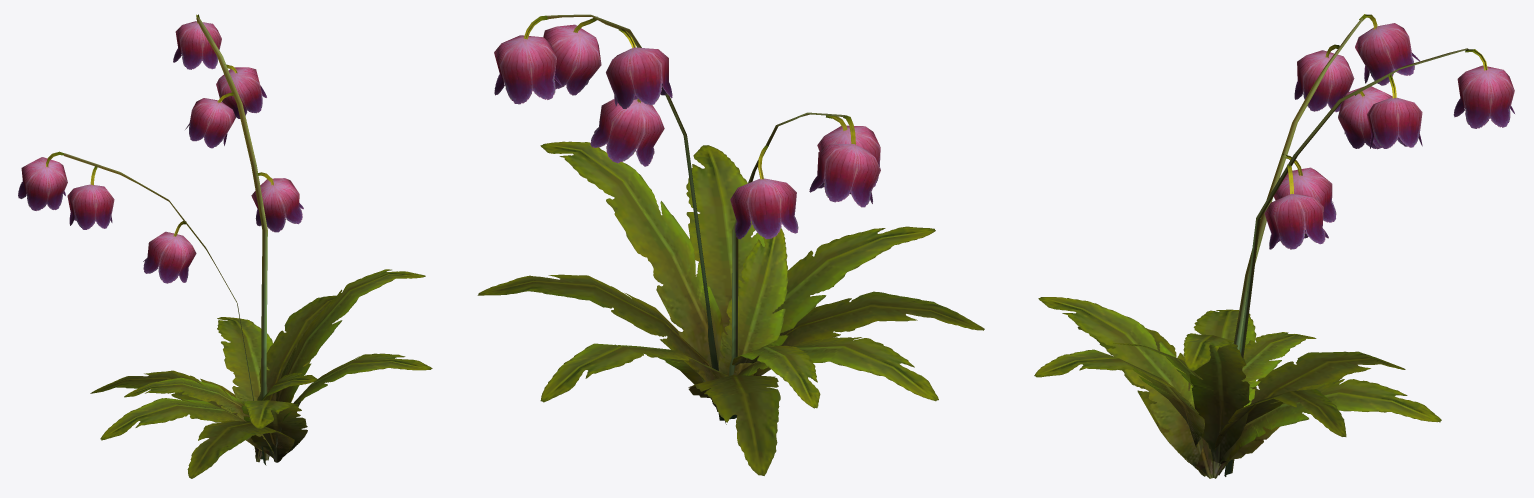
The model's file is Yegesl_zhiwu03.FBX.
3 renders of one model, left to right at view 1: azimuth 30°, elevation 25°; view 2: azimuth 150°, elevation 25°; view 3: azimuth 270°, elevation 25°, orthographic. The views are drawn at different scales.
Visible parts, largest first — view 1: Yegesl_zhiwu03; view 2: Yegesl_zhiwu03; view 3: Yegesl_zhiwu03.
Boxes of the visible parts, x1=… form: Yegesl_zhiwu03: x1=18, y1=14, x2=432, y2=478; Yegesl_zhiwu03: x1=477, y1=14, x2=984, y2=475; Yegesl_zhiwu03: x1=1034, y1=14, x2=1514, y2=478.
Bounding box in the file's own units: 40.39 × 42.6 × 42.22.
